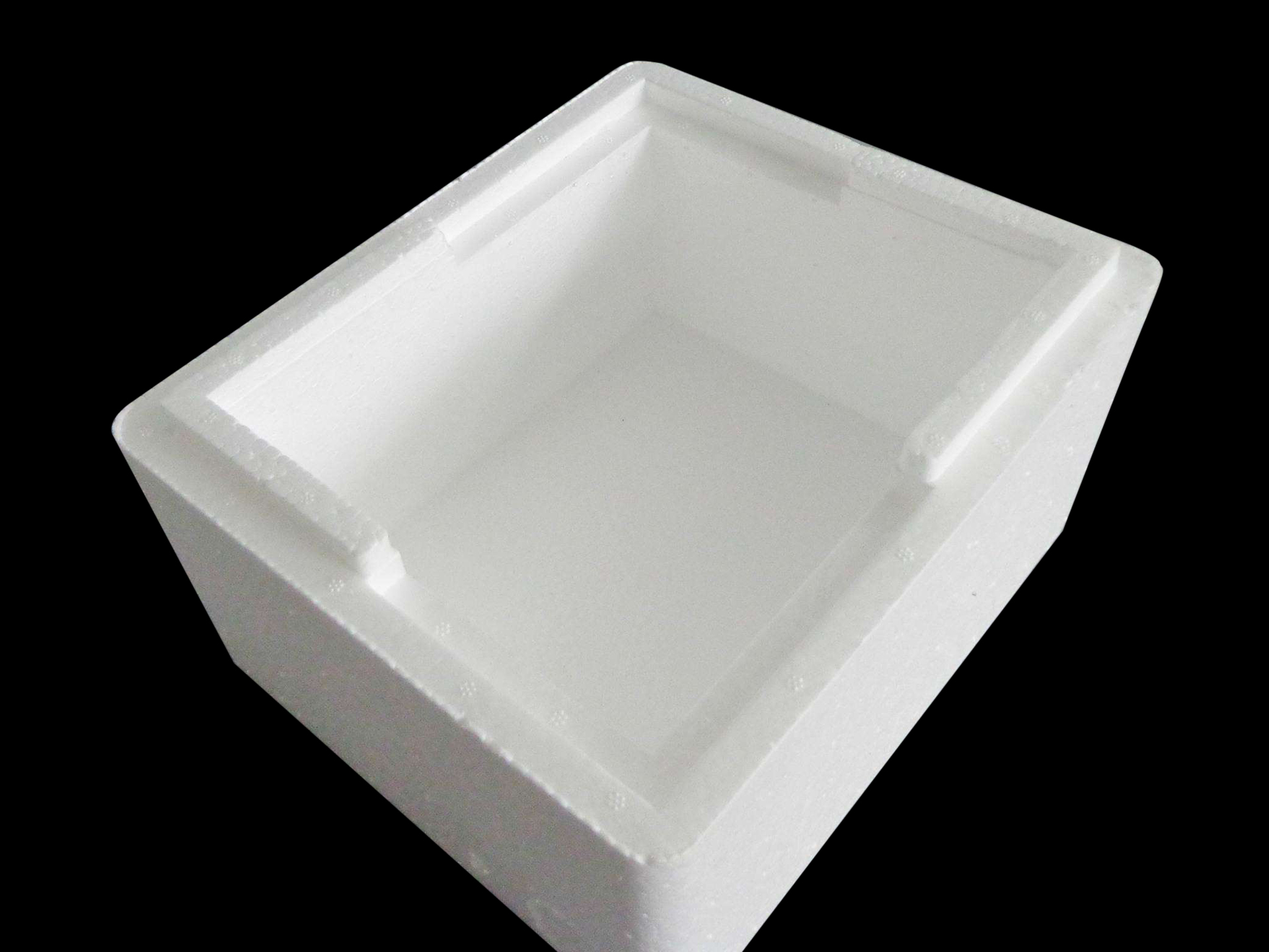泡沫箱: (114, 63, 1160, 950)
